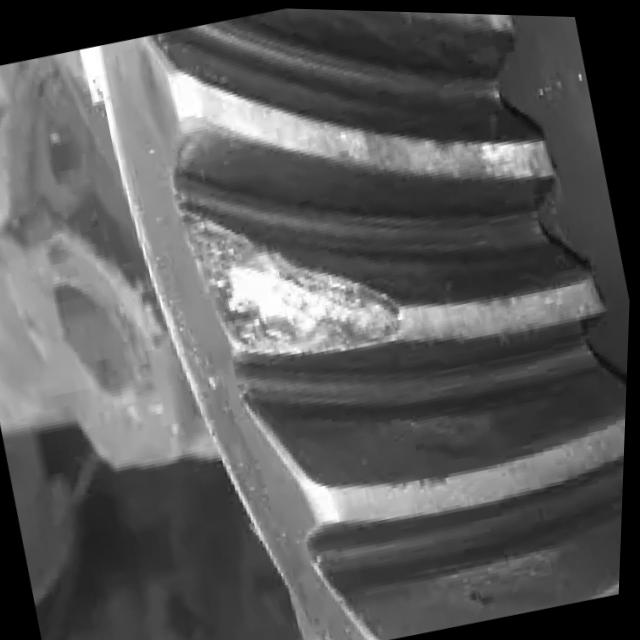Fault-Exist: (162, 148, 468, 429)
